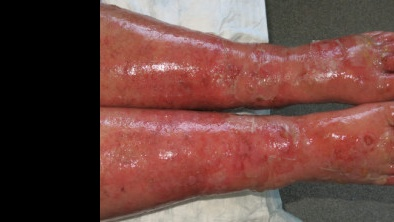SJS-TEN: (99, 13, 394, 113), (138, 101, 394, 212)
